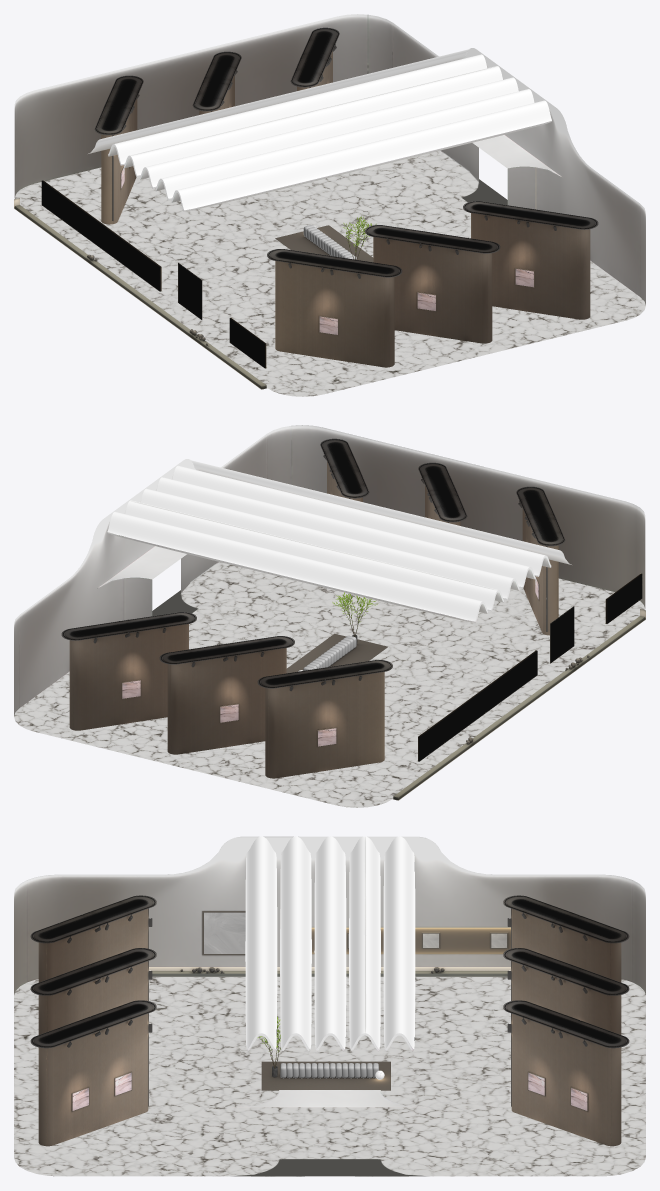
The picture shows the model from 3 angles, top to bottom: view 1: azimuth 30°, elevation 25°; view 2: azimuth 150°, elevation 25°; view 3: azimuth 270°, elevation 25°; orthographic projection. The views are drawn at different scales.
Visible parts, largest first — view 1: house, floor, wall, spot, house_dec, under rocks, frame, carpet, seat; view 2: house, floor, wall, spot, house_dec, under rocks, frame, carpet, seat; view 3: floor, house, wall, spot, carpet, house_dec, pic22, seat, under rocks, frame, wall_dec.
Boxes of the visible parts, x1,y1,x2,y2 form: house: (14, 14, 645, 389); floor: (14, 150, 645, 396); wall: (101, 51, 590, 367); spot: (94, 27, 598, 278); house_dec: (42, 180, 266, 368); under rocks: (15, 205, 266, 388); frame: (120, 165, 534, 335); carpet: (275, 225, 373, 262); seat: (303, 225, 356, 259); house: (14, 425, 645, 800); floor: (14, 562, 645, 807); wall: (69, 461, 558, 778); spot: (61, 438, 565, 691); house_dec: (418, 574, 642, 761); under rocks: (393, 616, 644, 799); frame: (121, 576, 574, 747); carpet: (286, 633, 387, 673); seat: (303, 635, 356, 670); floor: (14, 977, 645, 1176); house: (14, 836, 645, 1107); wall: (38, 909, 621, 1146); spot: (30, 895, 629, 1048); carpet: (261, 1061, 390, 1090); house_dec: (311, 927, 510, 953); pic22: (204, 912, 245, 953); seat: (280, 1063, 378, 1078); under rocks: (152, 971, 507, 976); frame: (72, 911, 587, 1111); wall_dec: (148, 908, 511, 1106).
Bounding box in the file's own units: 17.21 × 5.61 × 22.67.
